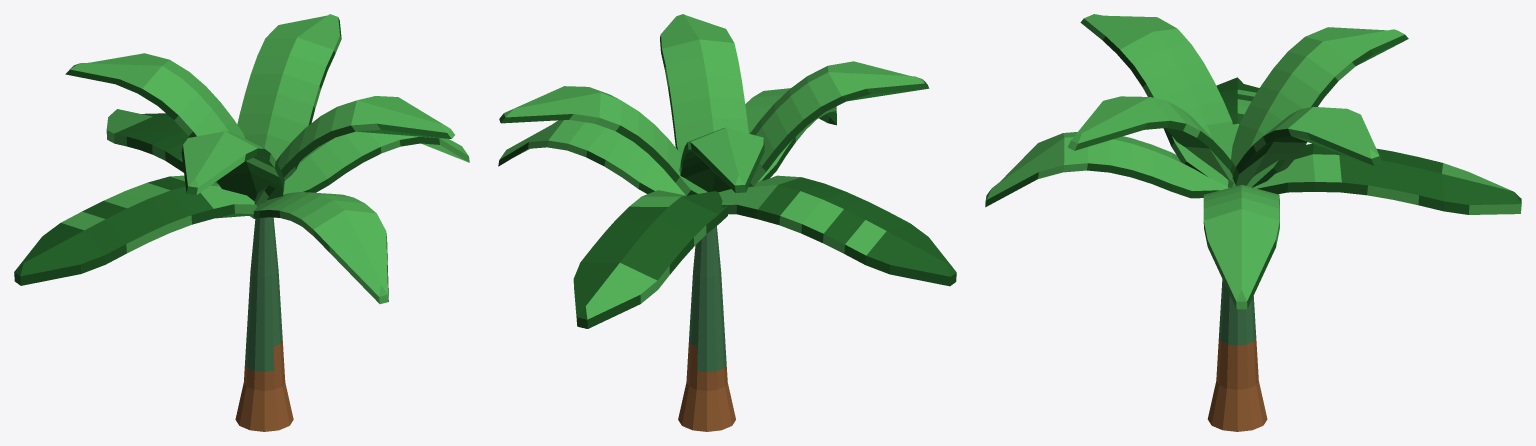
Rendered from BISAYAWA.fbx.
3 views of the same model, side by side, from view 1: azimuth 30°, elevation 25°; view 2: azimuth 150°, elevation 25°; view 3: azimuth 270°, elevation 25° (orthographic). The views are drawn at different scales.
Visible parts, largest first — view 1: Plane.015; view 2: Plane.015; view 3: Plane.015.
Boxes of the visible parts, bbox=[...] form: Plane.015: bbox=[14, 14, 469, 431]; Plane.015: bbox=[498, 14, 956, 431]; Plane.015: bbox=[985, 14, 1521, 431].
Bounding box in the file's own units: 4584 × 3276 × 4584.
